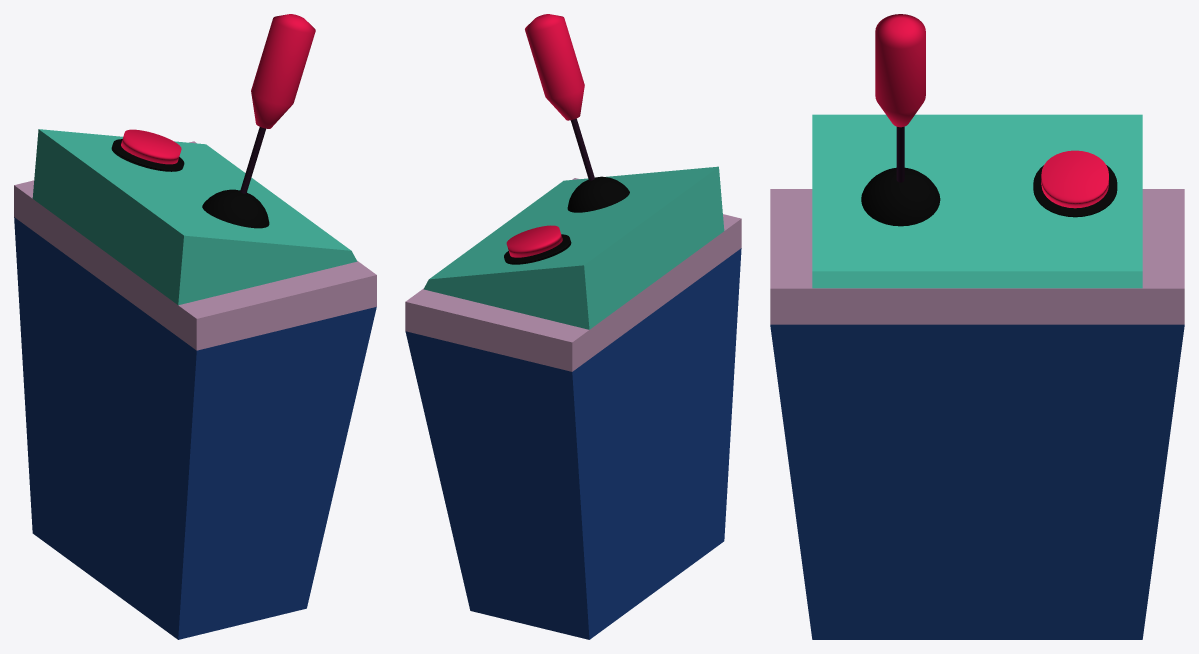
Rendered from Control.fbx.
The picture shows the model from 3 angles, left to right: view 1: azimuth 30°, elevation 25°; view 2: azimuth 150°, elevation 25°; view 3: azimuth 270°, elevation 25°; orthographic projection. The views are drawn at different scales.
Parts seen in each view (by area): view 1: Cube, DirectionLever, Sphere, Button, ButtonHolder; view 2: Cube, DirectionLever, Sphere, Button, ButtonHolder; view 3: Cube, DirectionLever, Sphere, Button, ButtonHolder.
Boxes of the visible parts, x1,y1,x2,y2 form: Cube: (14, 129, 376, 639); DirectionLever: (240, 14, 315, 193); Sphere: (202, 189, 269, 228); Button: (121, 129, 181, 164); ButtonHolder: (111, 139, 184, 171); Cube: (405, 166, 741, 639); DirectionLever: (525, 14, 594, 180); Sphere: (567, 176, 629, 212); Button: (506, 225, 562, 257); ButtonHolder: (504, 234, 571, 264); Cube: (770, 114, 1184, 639); DirectionLever: (875, 14, 925, 182); Sphere: (861, 167, 940, 226); Button: (1041, 150, 1108, 208); ButtonHolder: (1033, 165, 1117, 217).
Size of the model in its own units: 56 by 166 by 98.4.
